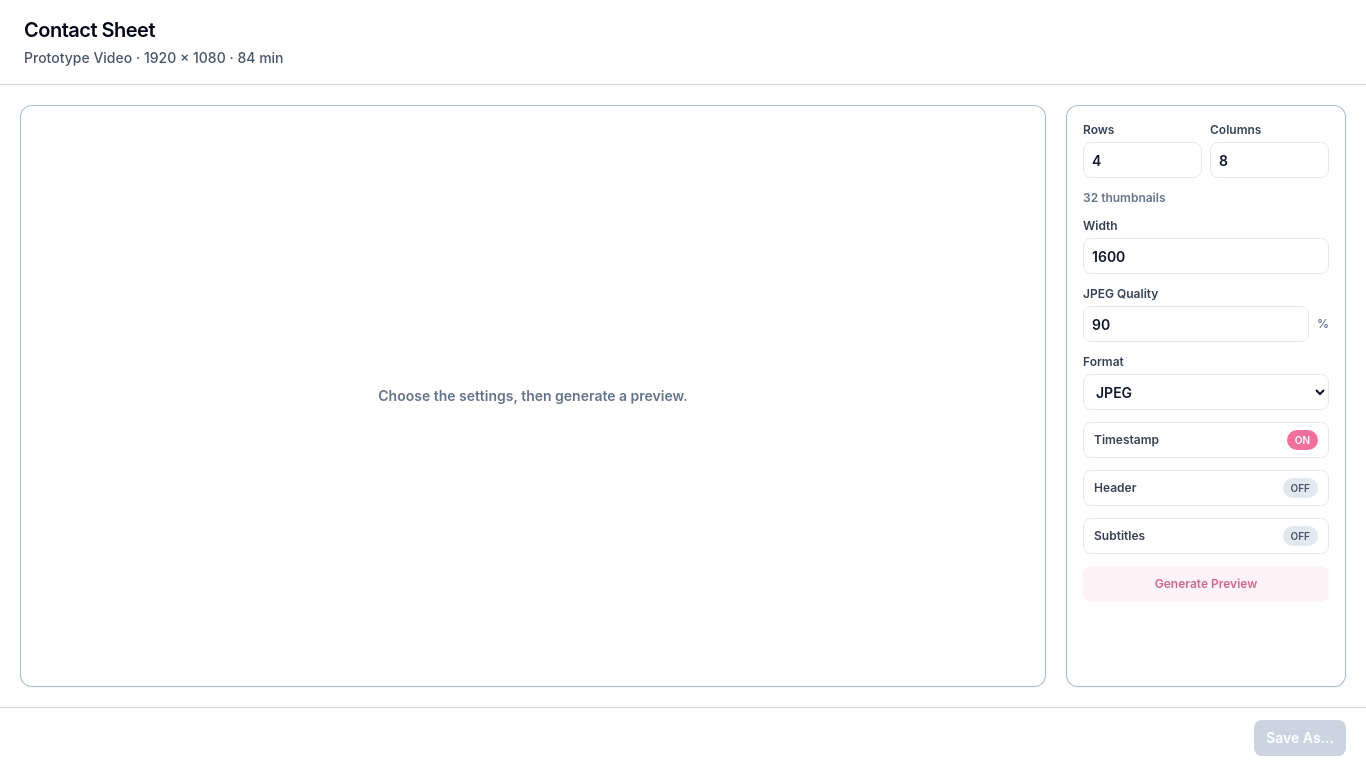
Test: ContactSheetWindow › keeps partially edited width text and blocks generation until it is valid
Clear the number field labelled "Width" at (1206, 256), box [1083, 238, 1329, 274]
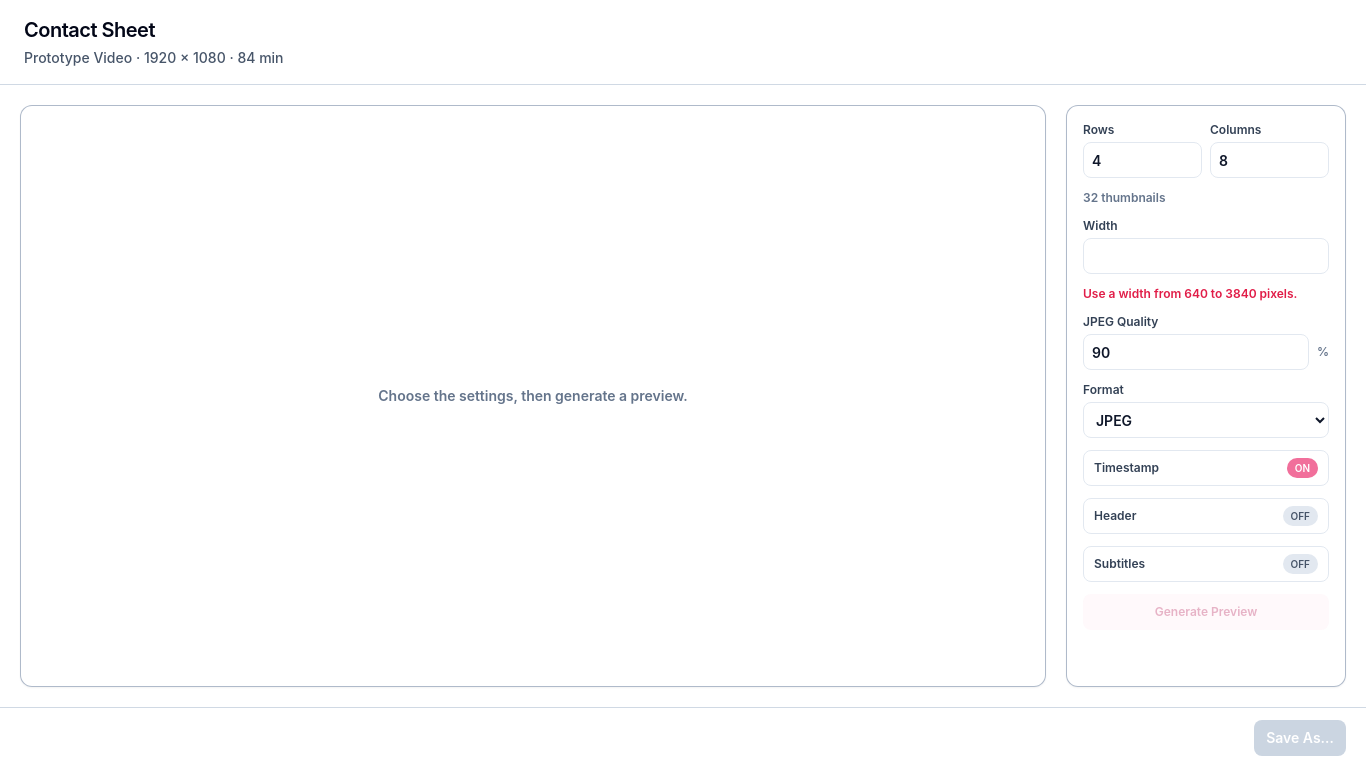
Check: the text "Use a width from 640 to 3840 pixels." is shown, box [1083, 286, 1329, 302]
Check: the button "Generate Preview" is disabled, box [1083, 594, 1329, 630]
Type "1920" into the number field labelled "Width" at (1206, 256), box [1083, 238, 1329, 274]
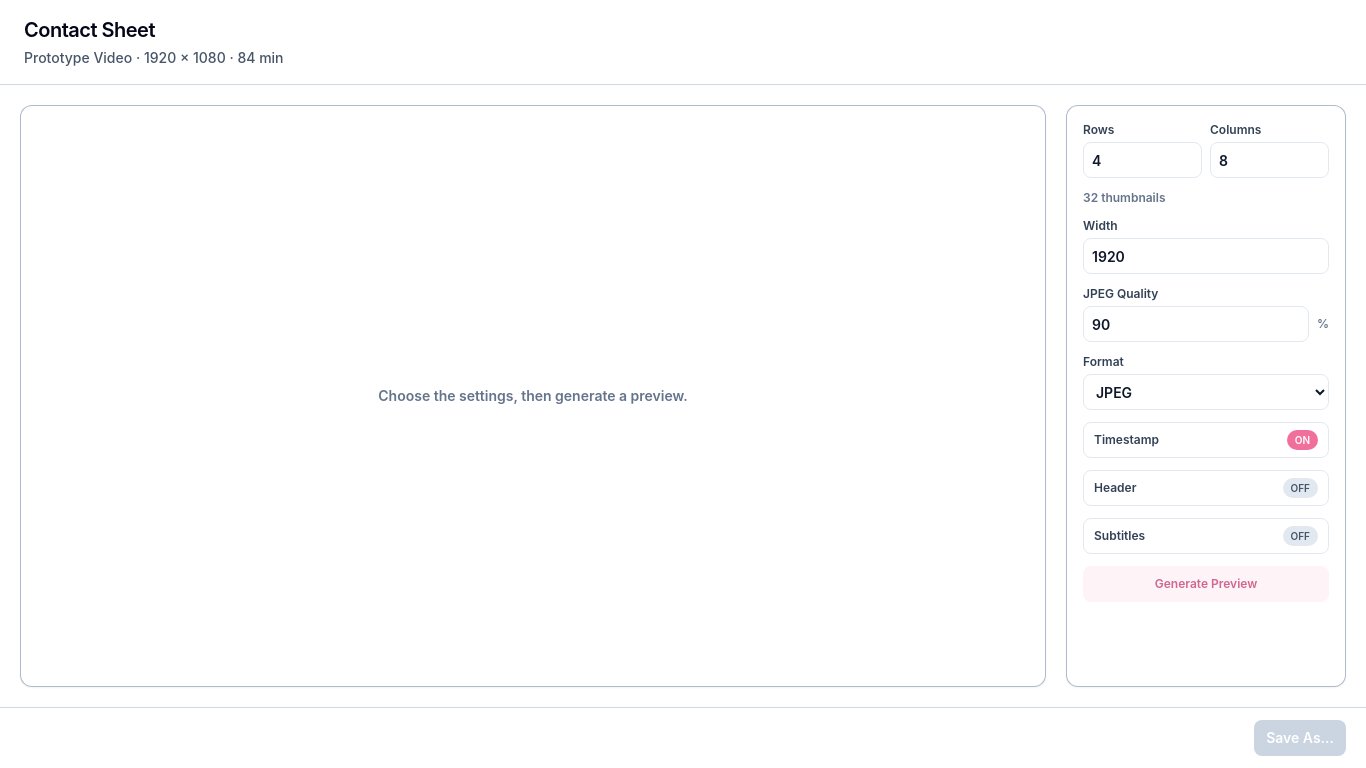
Check: the button "Generate Preview" is enabled, box [1083, 566, 1329, 602]
